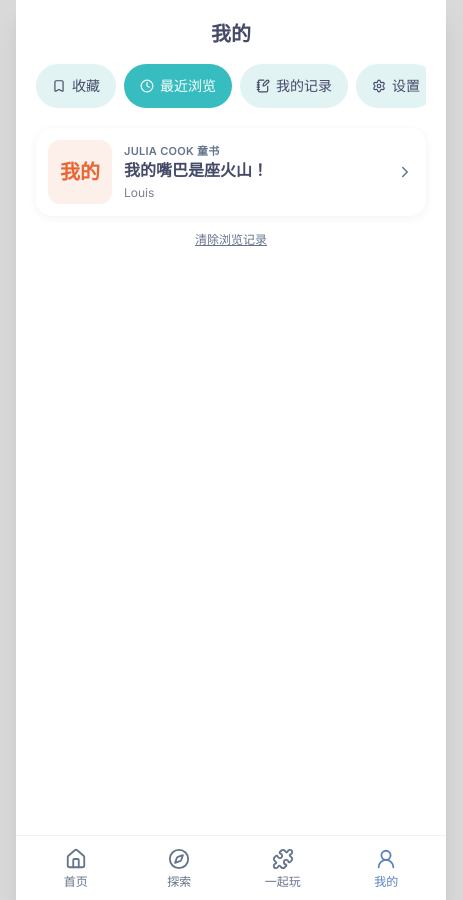
Test: My Space recent tab › clears the recently-viewed list when the clear button is clicked
Click the button "清除浏览记录" at x=231, y=240, box [36, 232, 426, 248]
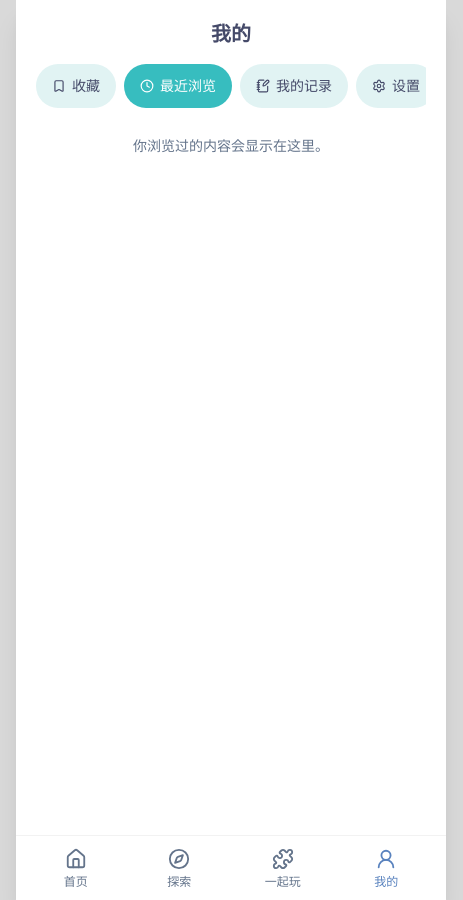
Expected: the text "你浏览过的内容会显示在这里。" is shown, [133, 137, 329, 154]
